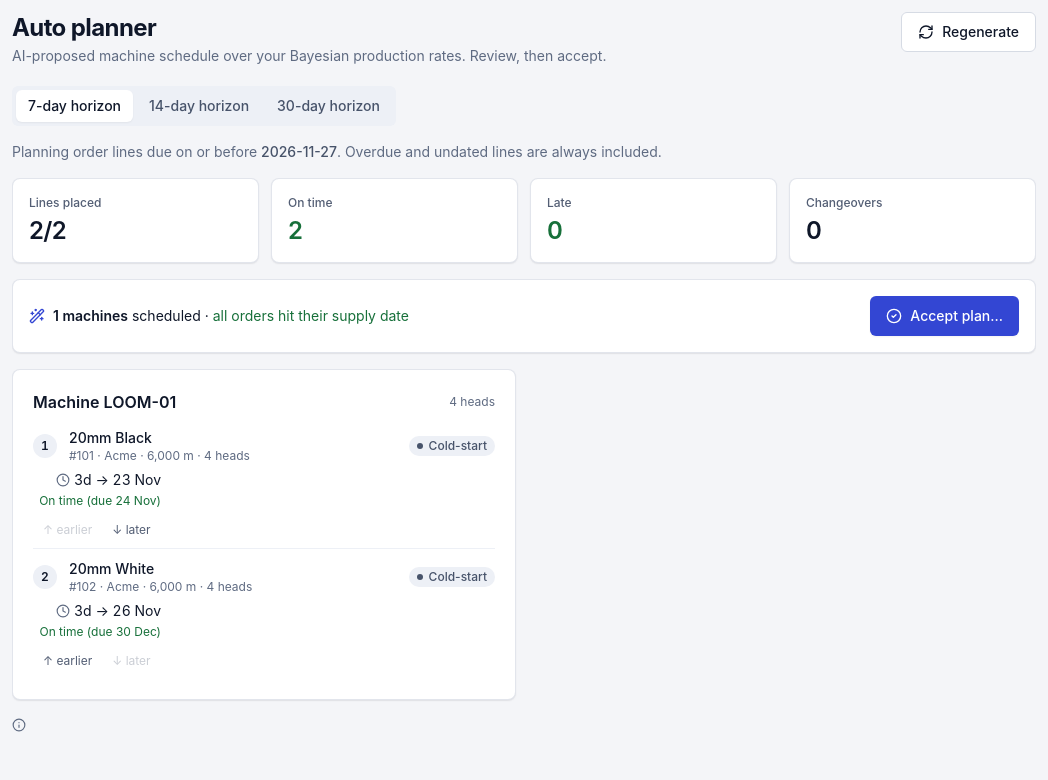
Test: moving a line on the plan › undoing the changes goes back to the proposal's figures
This screenshot has width=1048, height=780.
Click the button with aria-label "Move 20mm Black later" at (132, 530), box top-left (106, 520), bottom-right (157, 540)
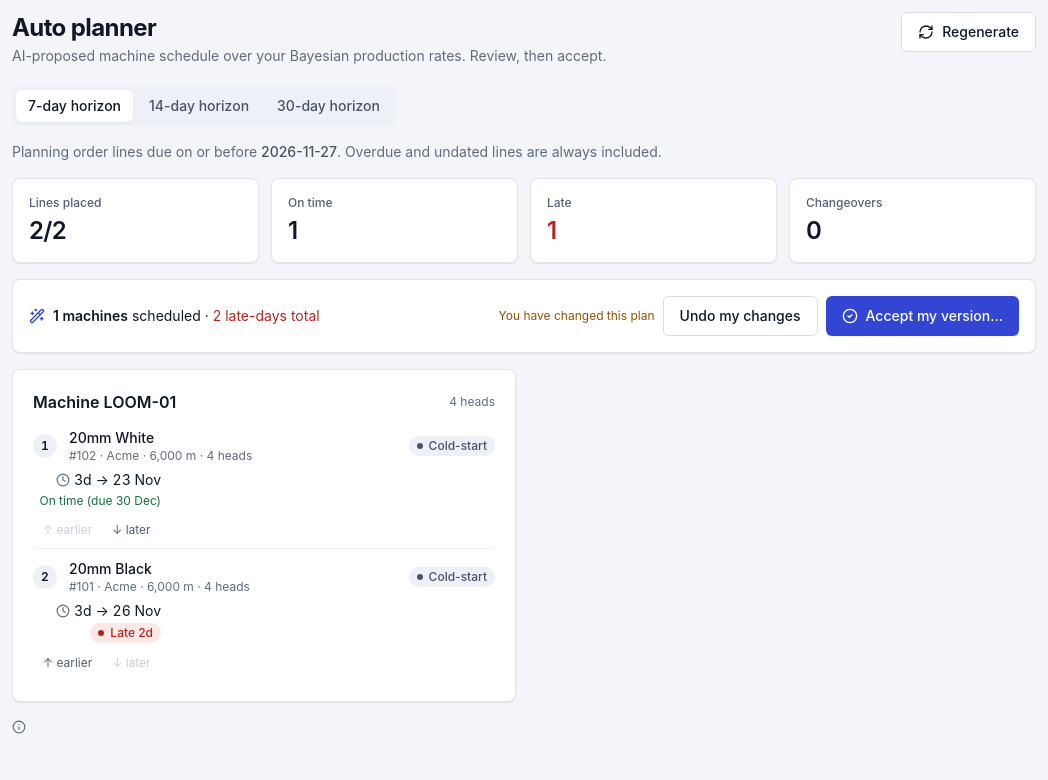
Now the text "Late 2d" is shown, box top-left (110, 624), bottom-right (153, 640)
Click the button "Undo my changes" at (740, 316), box top-left (663, 296), bottom-right (818, 336)
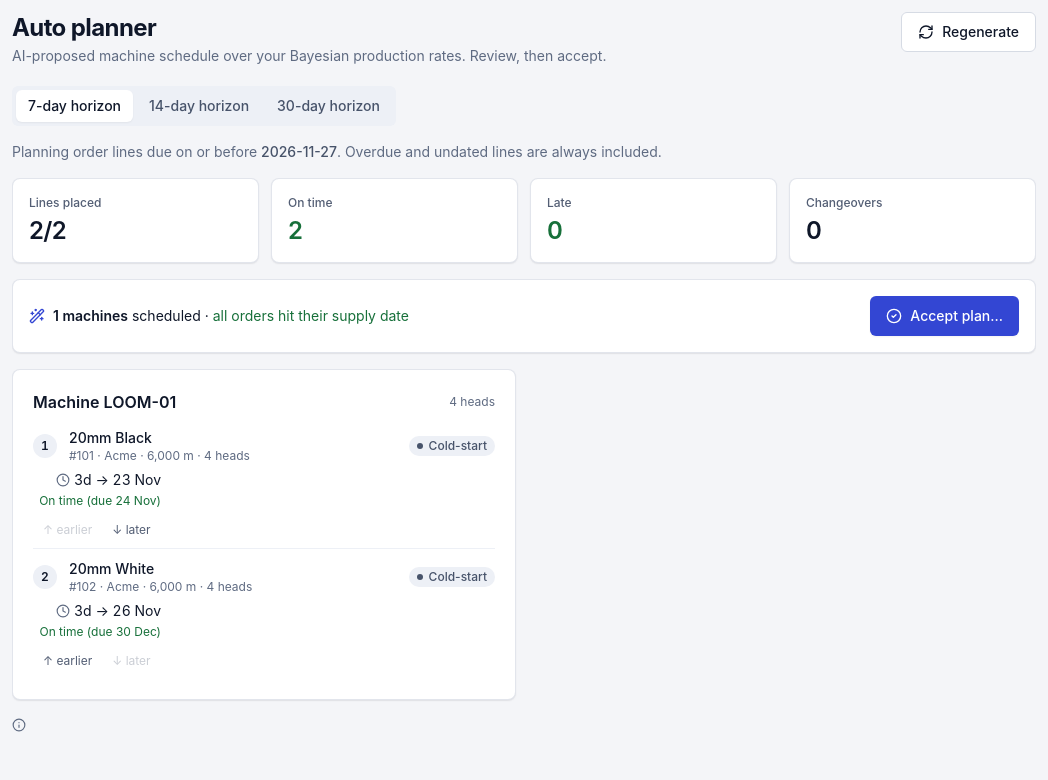
Now the text "Late 2d" is gone
Now the text "all orders hit their supply date" is shown, box top-left (213, 306), bottom-right (409, 324)
